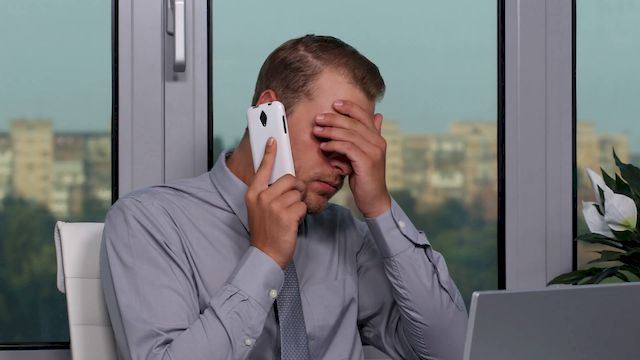phone: (245, 104, 306, 187)
talk: (239, 83, 374, 255)
